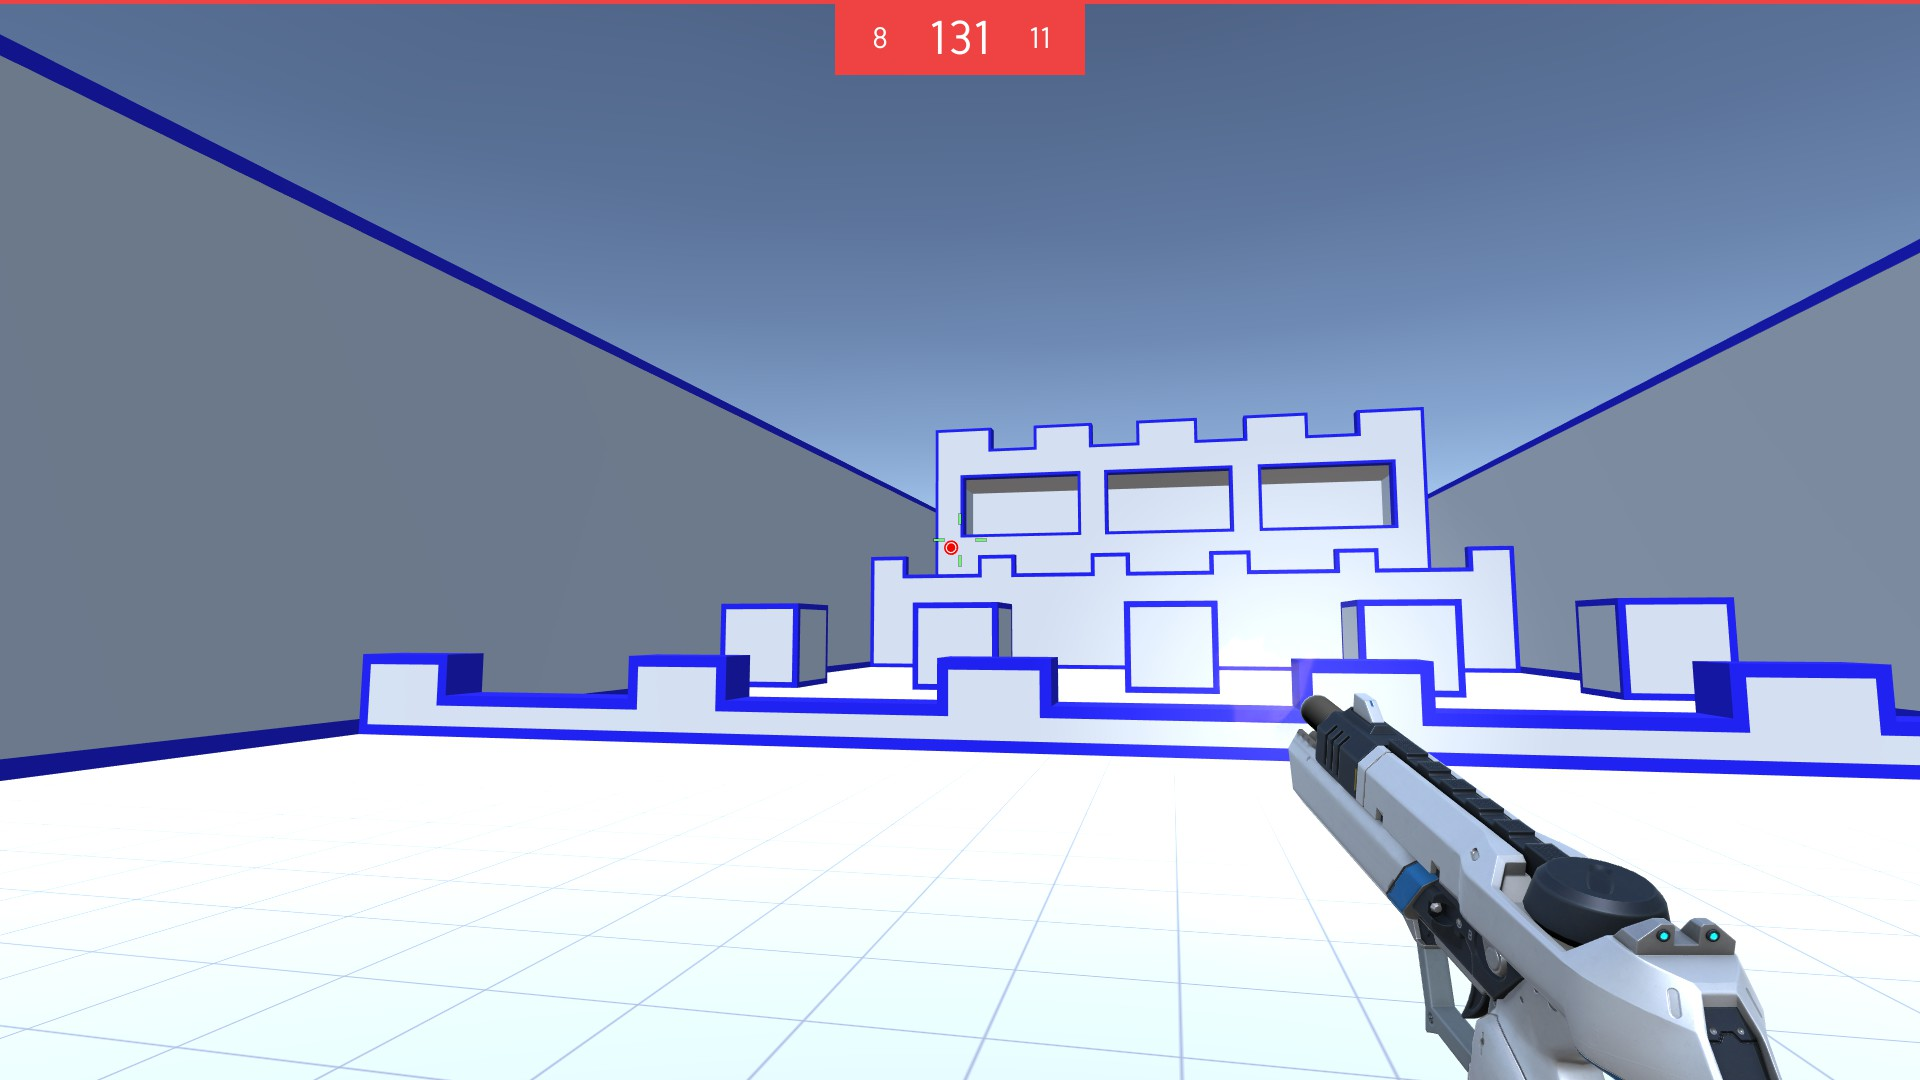target: (943, 539, 960, 558)
